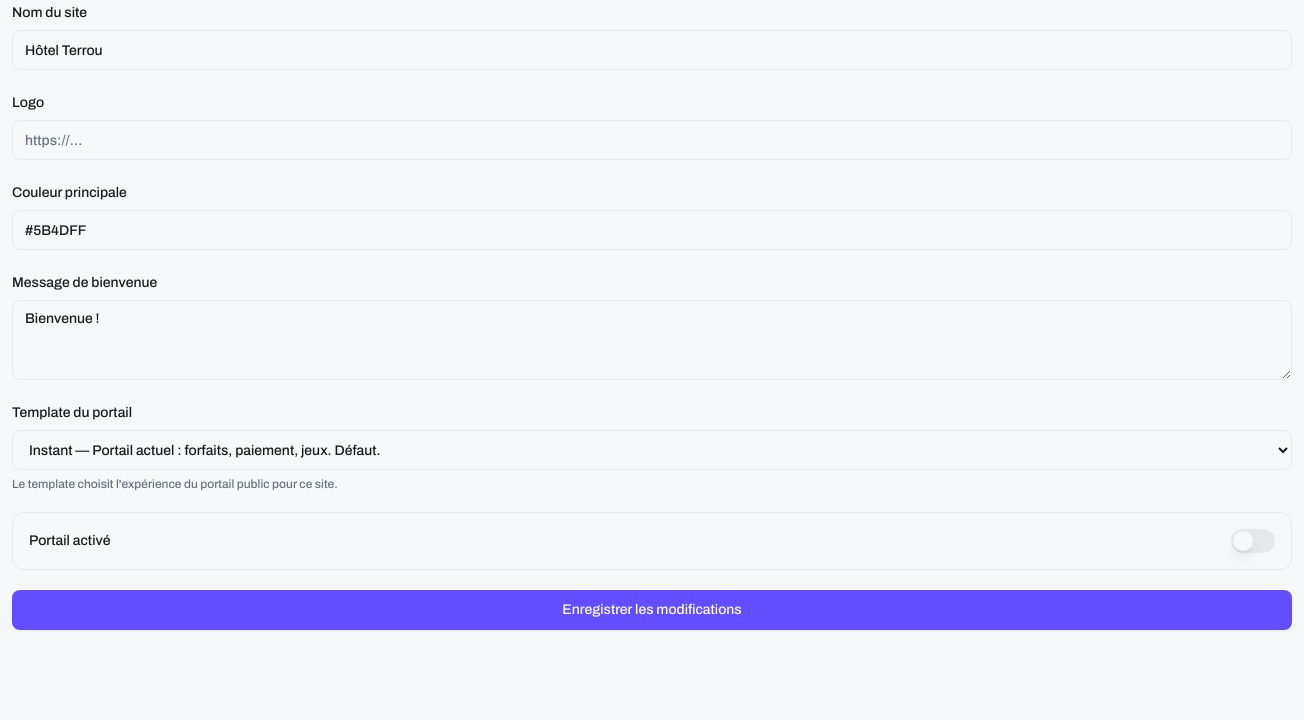
Test case: submits the form and updates the site with the edited fields
The image size is (1304, 720).
Step 1. Replace the text in the field labelled "Nom du site" with "Hôtel du Lac" → [652, 50], box [12,30,1292,70]
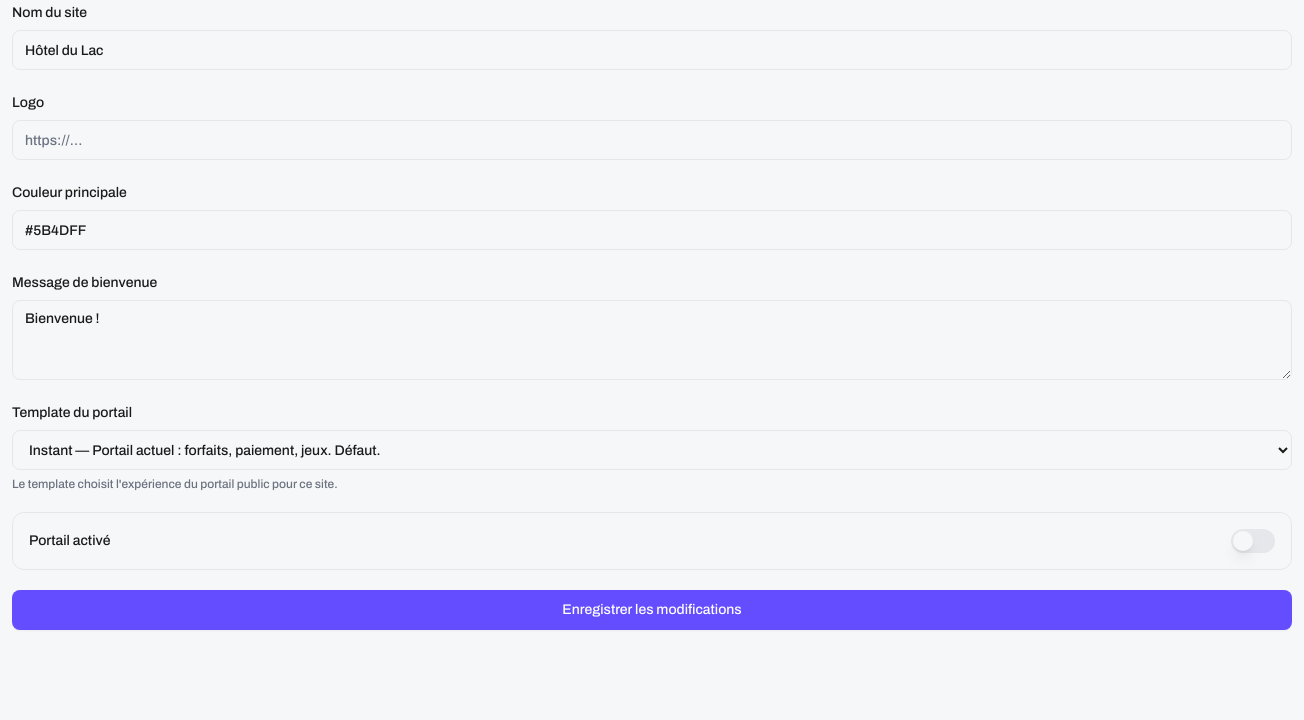
Step 2. Type "https://cdn.example.com/logo.png" into the field labelled "Logo" → [652, 140], box [12,120,1292,160]
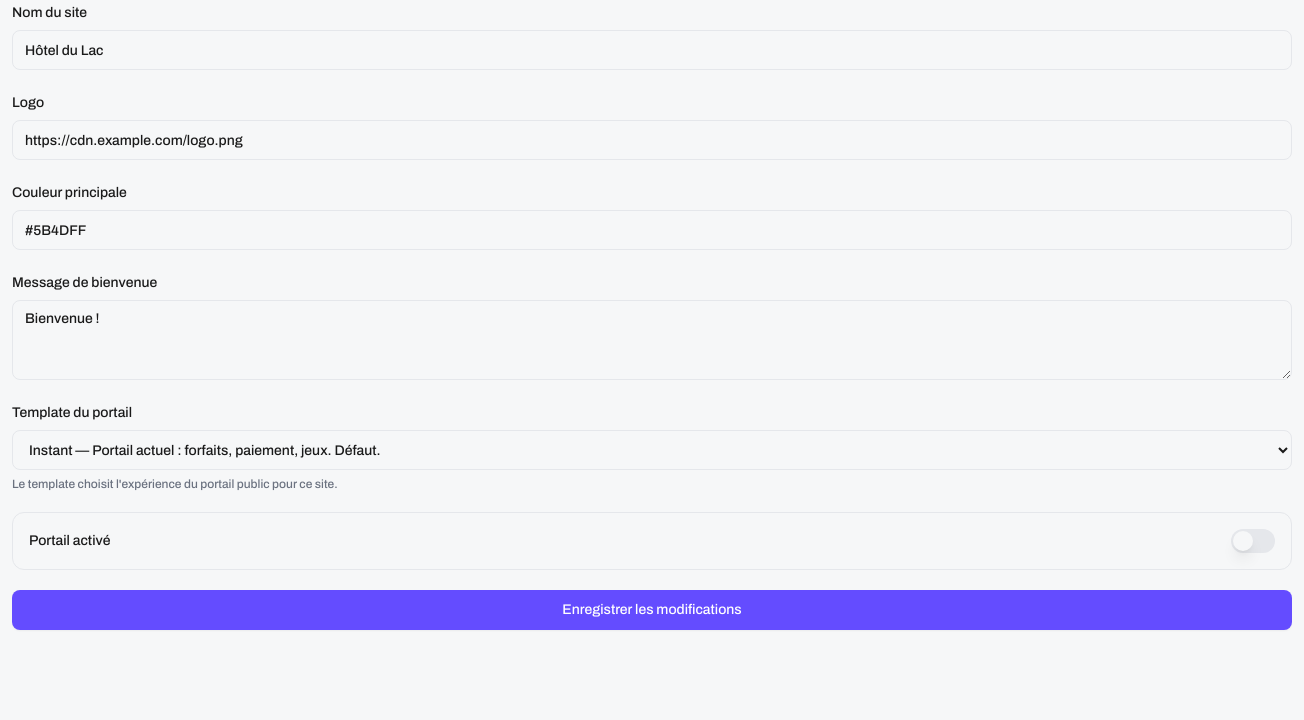
Step 3. Replace the text in the field labelled "Couleur principale" with "#FF8800" → [652, 230], box [12,210,1292,250]
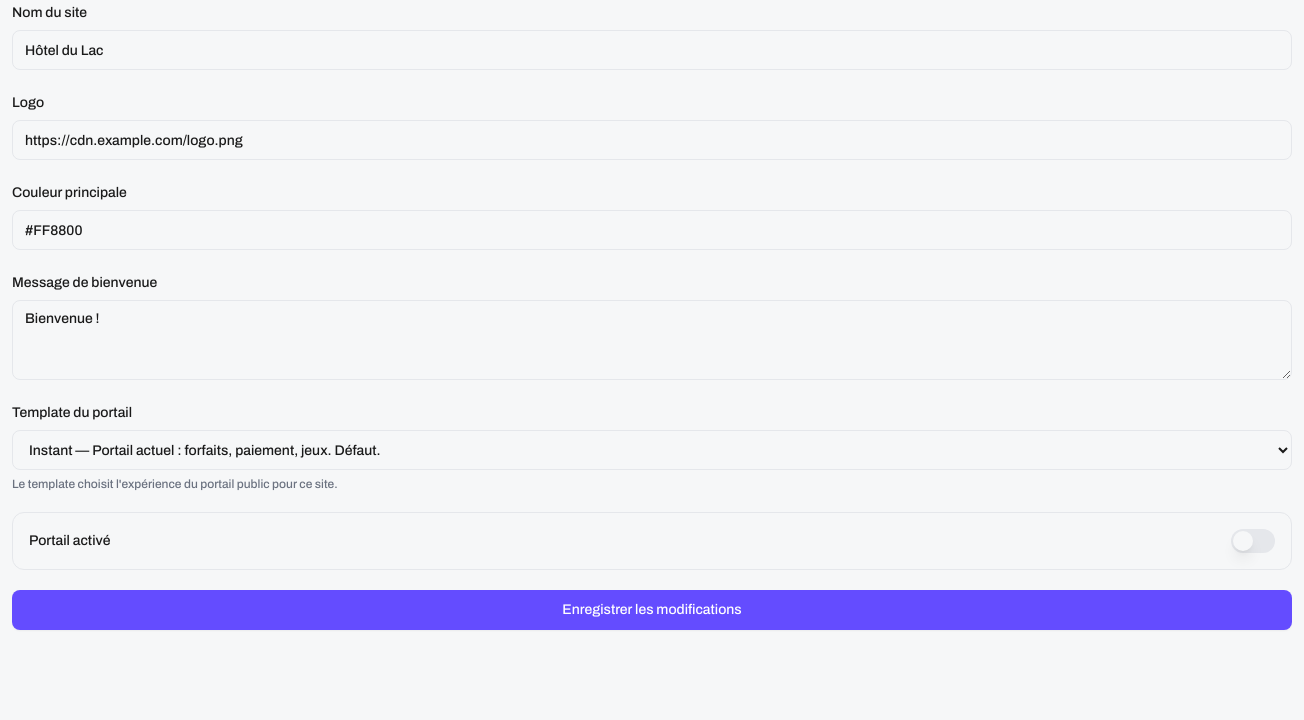
Step 4. Replace the text in the text box labelled "Message de bienvenue" with "Karibou !" → [652, 340], box [12,300,1292,380]
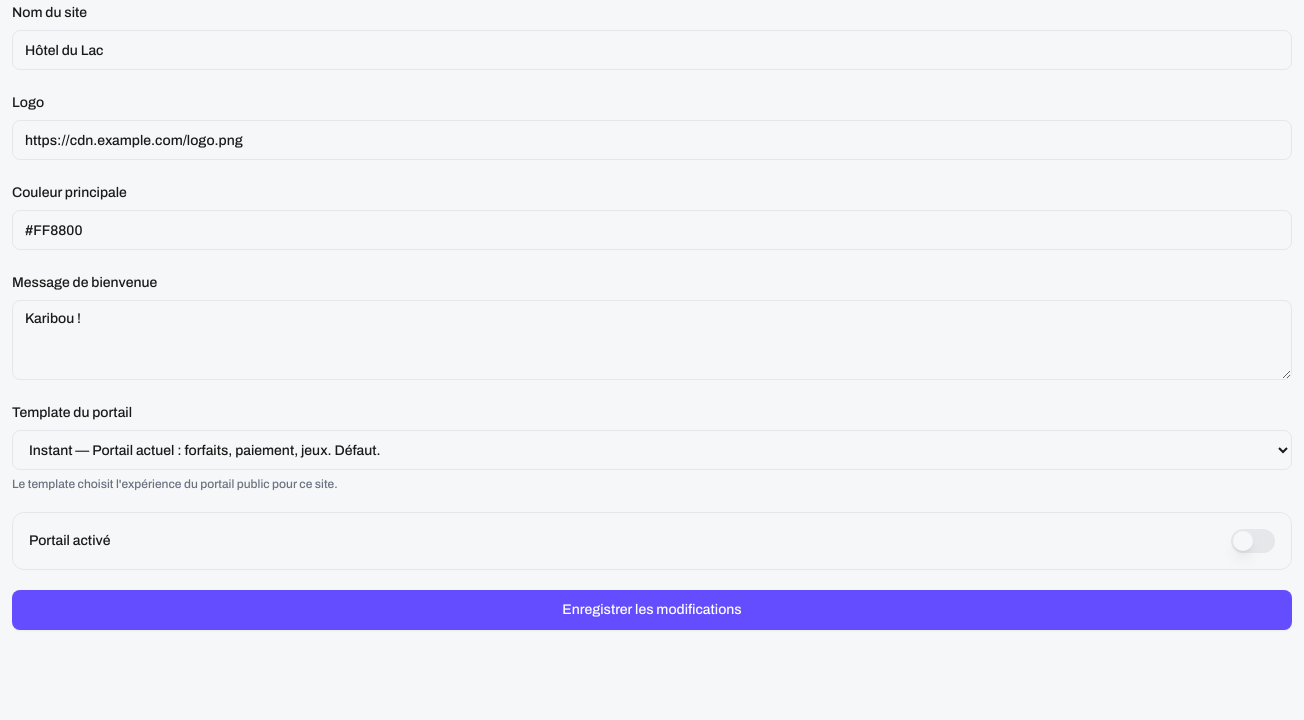
Step 5. Click the switch named "portail activé" → [1253, 541], box [1231,529,1275,553]
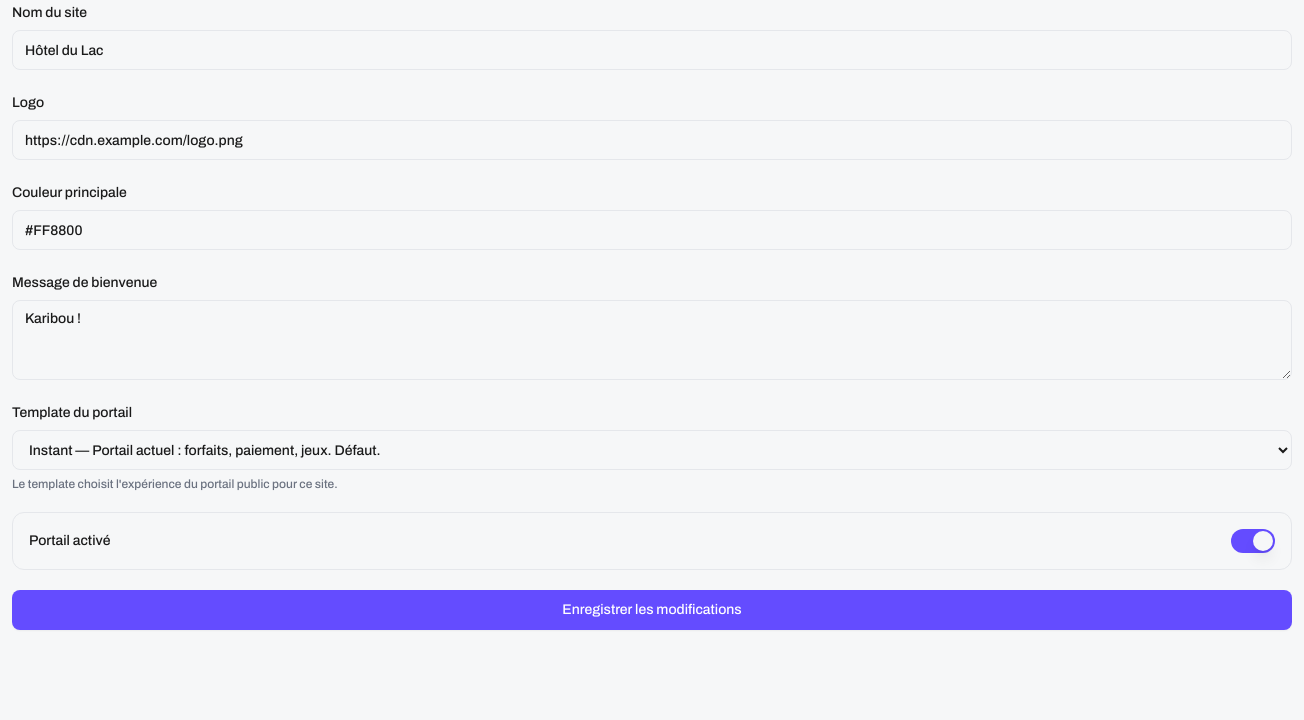
Step 6. Click the button "Enregistrer les modifications" → [652, 610], box [12,590,1292,630]
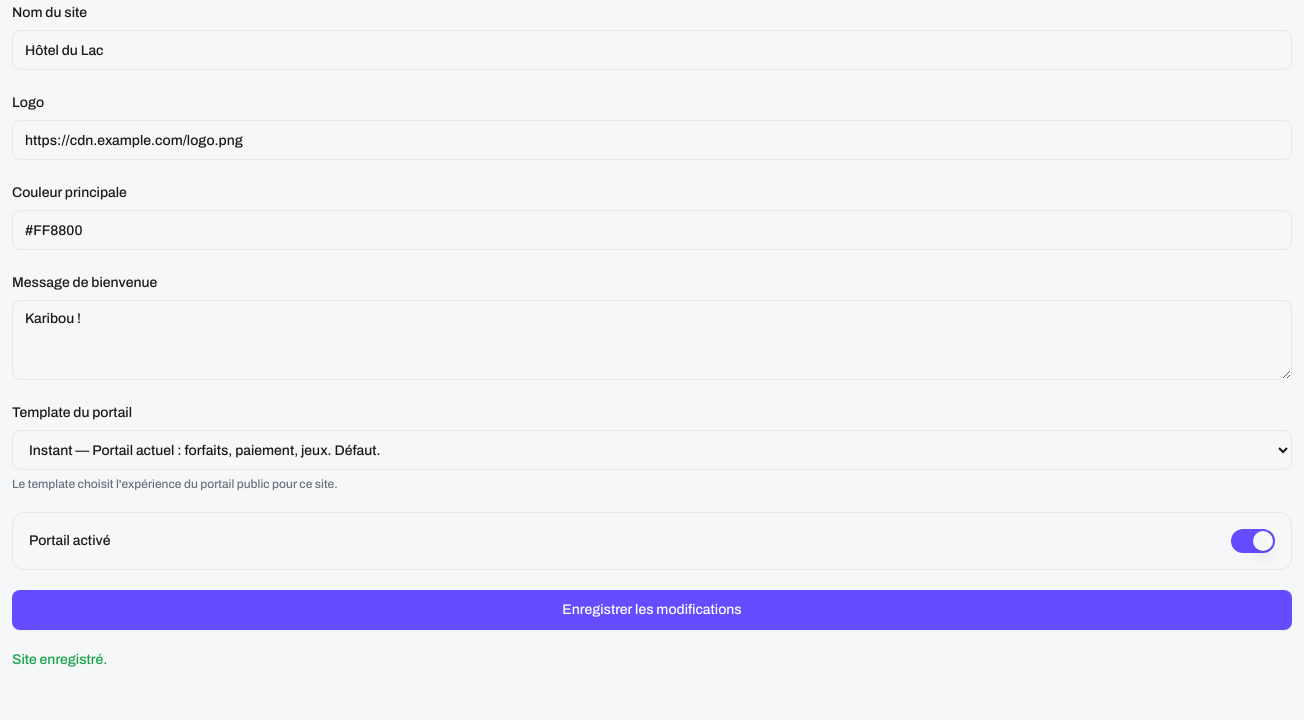
Expected: the text "Site enregistré." is shown, [12,652,107,667]
